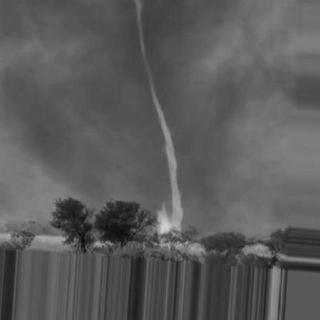Fire: (151, 154, 194, 240)
